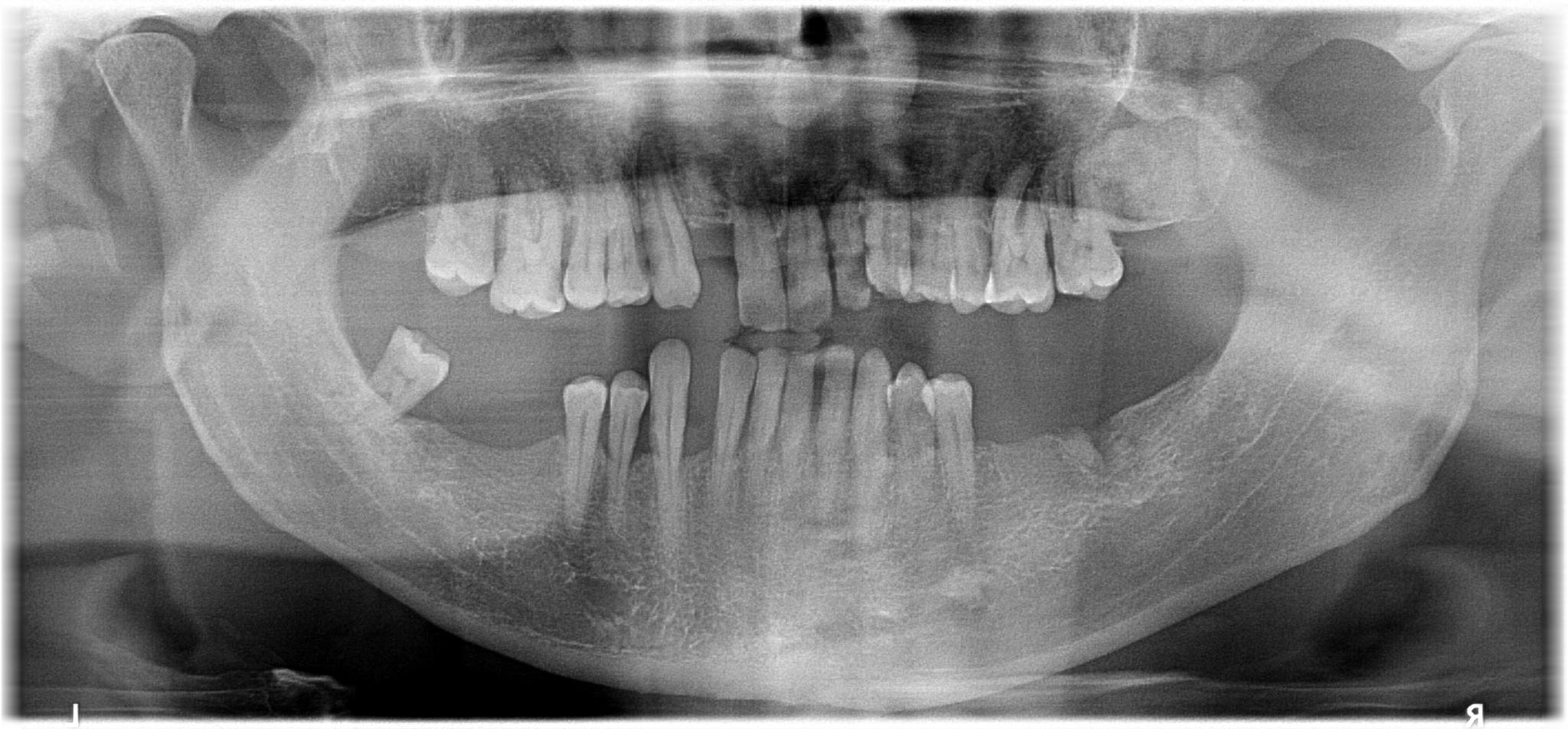Premolars: (364, 177, 1031, 506), (433, 74, 1297, 297), (526, 146, 1568, 319), (492, 117, 1488, 287), (561, 149, 1568, 315), (432, 125, 1294, 311), (420, 140, 1236, 313), (307, 127, 907, 299), (324, 132, 947, 296), (359, 153, 1030, 305), (289, 140, 849, 314)
